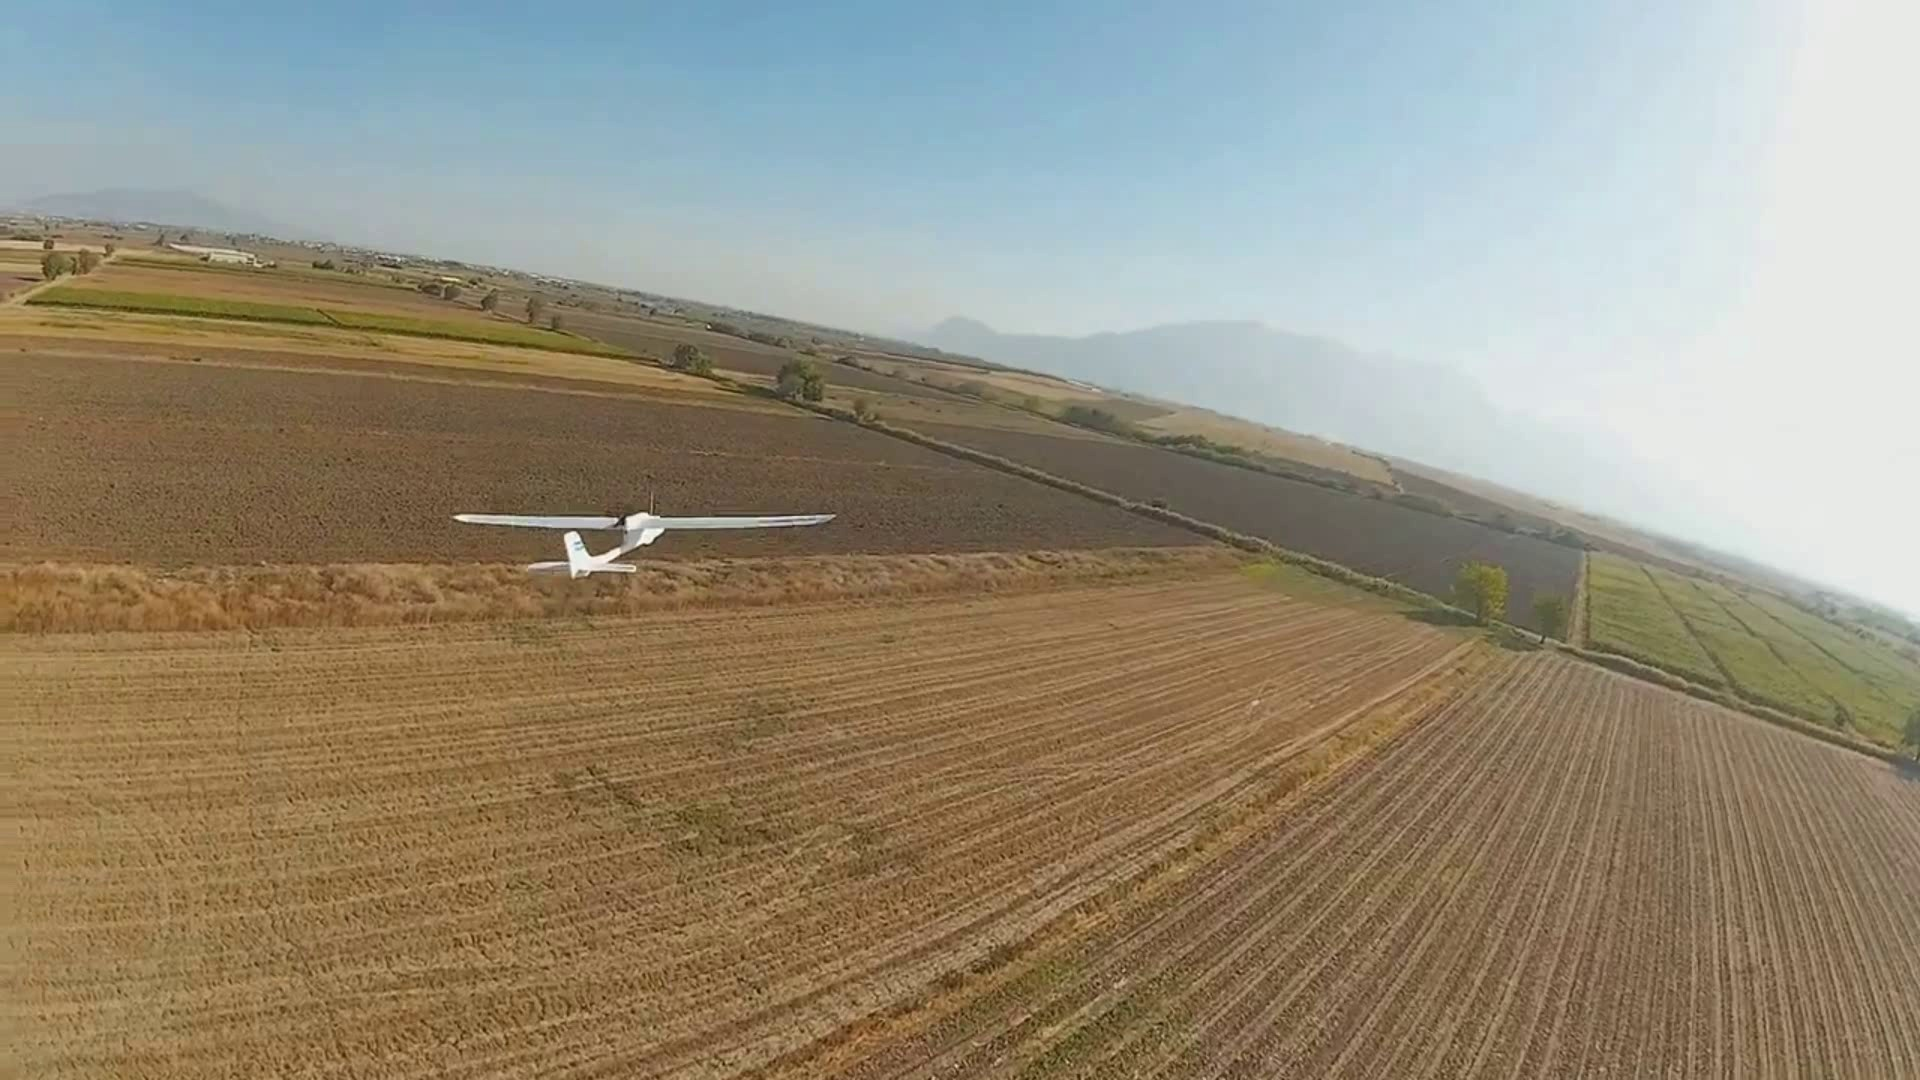airplane: (796, 352, 1919, 764), (452, 501, 837, 585)
